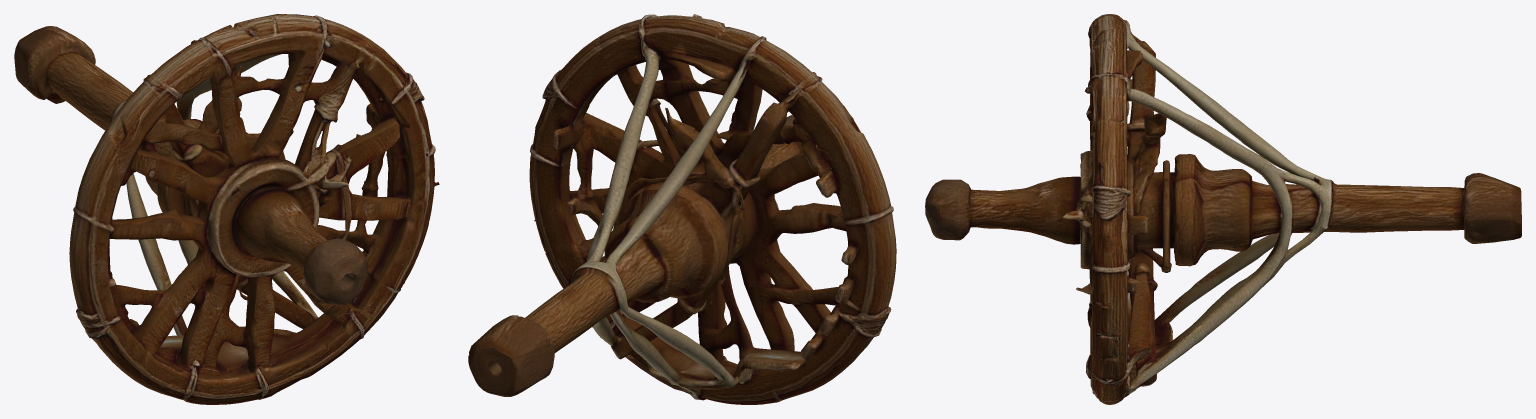
Rendered from spinning-wheel.glb.
3 views of the same model, side by side, from view 1: azimuth 30°, elevation 25°; view 2: azimuth 150°, elevation 25°; view 3: azimuth 270°, elevation 25° (orthographic). The views are drawn at different scales.
Visible parts, largest first — view 1: tripo_node_e1a4e3ae-af17-4ab8-b212-d4d088eebc9f; view 2: tripo_node_e1a4e3ae-af17-4ab8-b212-d4d088eebc9f; view 3: tripo_node_e1a4e3ae-af17-4ab8-b212-d4d088eebc9f.
Part boxes in pixels (left/top/right/bottom): tripo_node_e1a4e3ae-af17-4ab8-b212-d4d088eebc9f: left=14, top=14, right=439, bottom=404; tripo_node_e1a4e3ae-af17-4ab8-b212-d4d088eebc9f: left=468, top=14, right=896, bottom=404; tripo_node_e1a4e3ae-af17-4ab8-b212-d4d088eebc9f: left=925, top=14, right=1521, bottom=404.
Size of the model in its own units: 0.6619 by 0.6616 by 1.
1 material, 1 textured.
